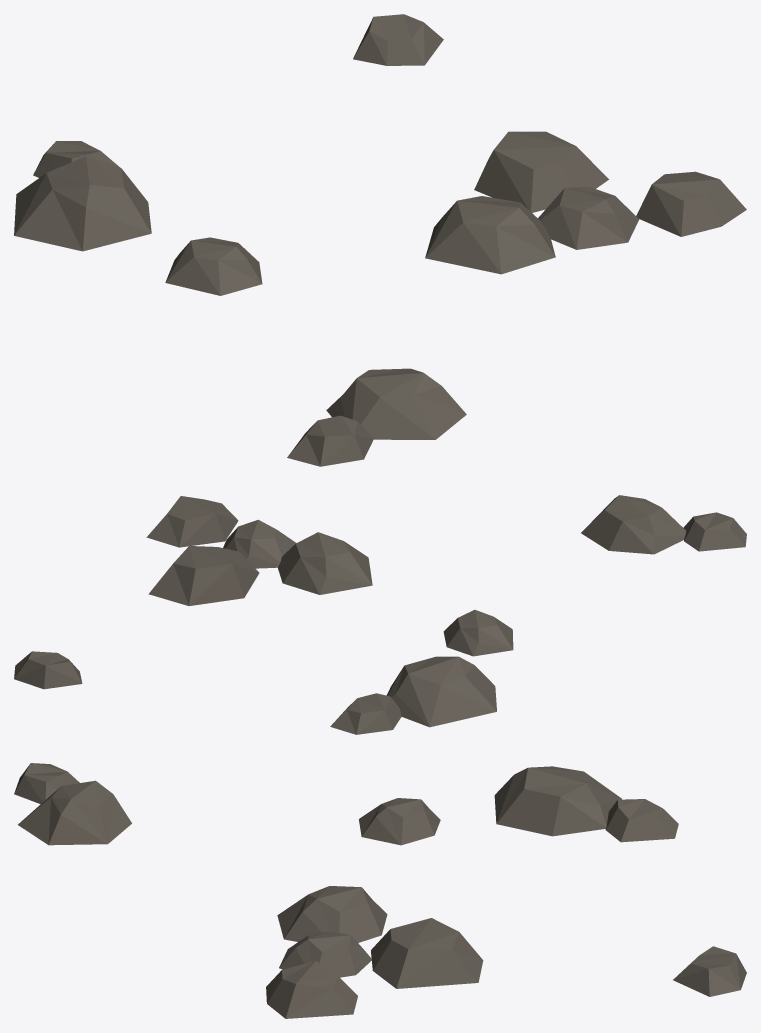
The model's file is SM_Env_Rocks_01.fbx.
The picture shows the model from 3 angles, top to bottom: view 1: azimuth 30°, elevation 25°; view 2: azimuth 150°, elevation 25°; view 3: azimuth 270°, elevation 25°; orthographic projection. The views are drawn at different scales.
Parts seen in each view (by area): view 1: SM_Env_Rocks_01; view 2: SM_Env_Rocks_01; view 3: SM_Env_Rocks_01.
Part boxes in pixels (x1=…): SM_Env_Rocks_01: x1=14, y1=14, x2=746, y2=466; SM_Env_Rocks_01: x1=14, y1=495, x2=746, y2=734; SM_Env_Rocks_01: x1=14, y1=763, x2=746, y2=1018.
Size of the model in its own units: 273 by 19.82 by 341.
